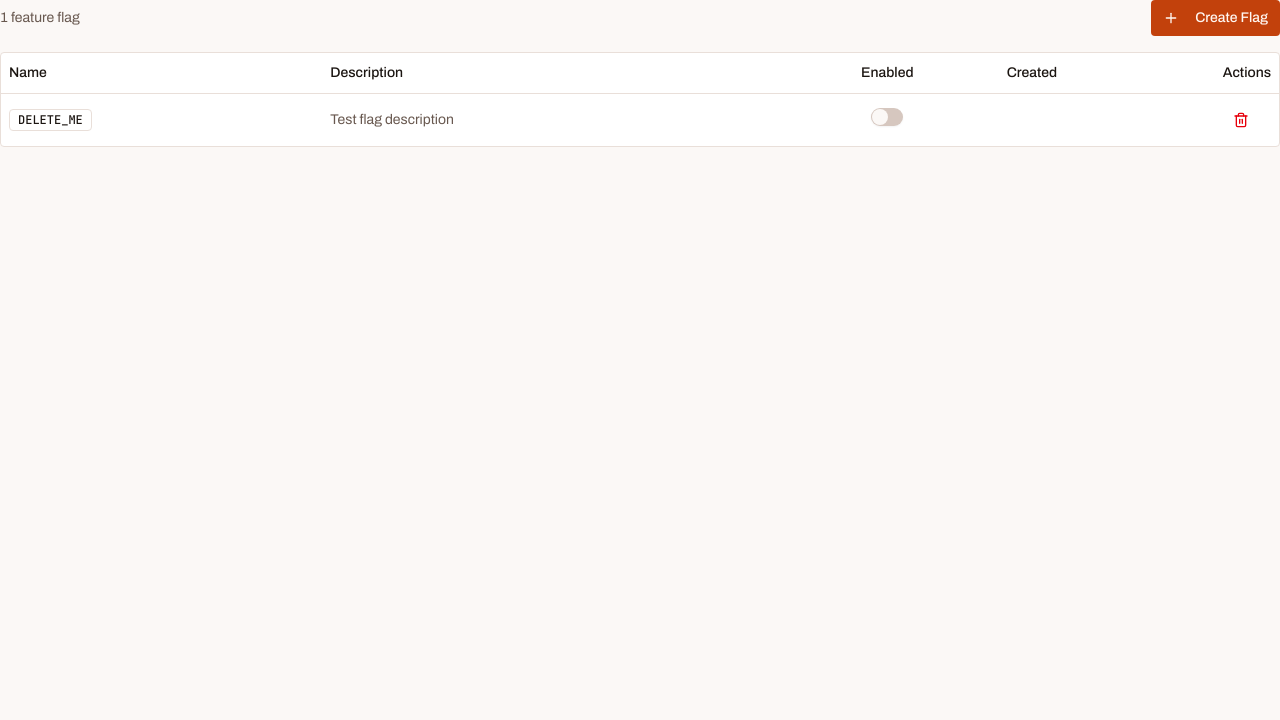
Test case: components/admin/feature-flag-list › delete functionality › should open delete confirmation dialog when delete button clicked
Click the 3rd button at (1241, 120), box [1223,102,1259,138]
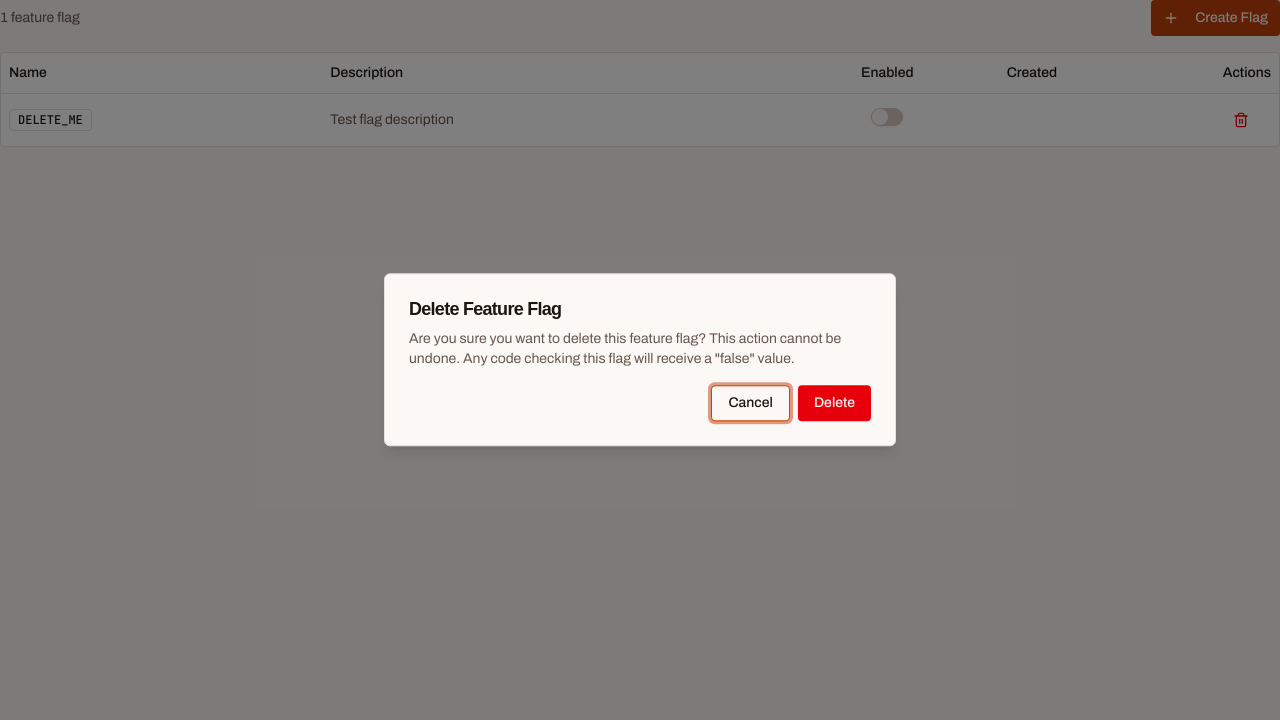
Now the dialog is shown, box [384,273,896,447]
Now the heading "Delete Feature Flag" is shown, box [409,299,561,319]
Now the text "Are you sure you want to delete this feature flag" is shown, box [409,332,841,367]
